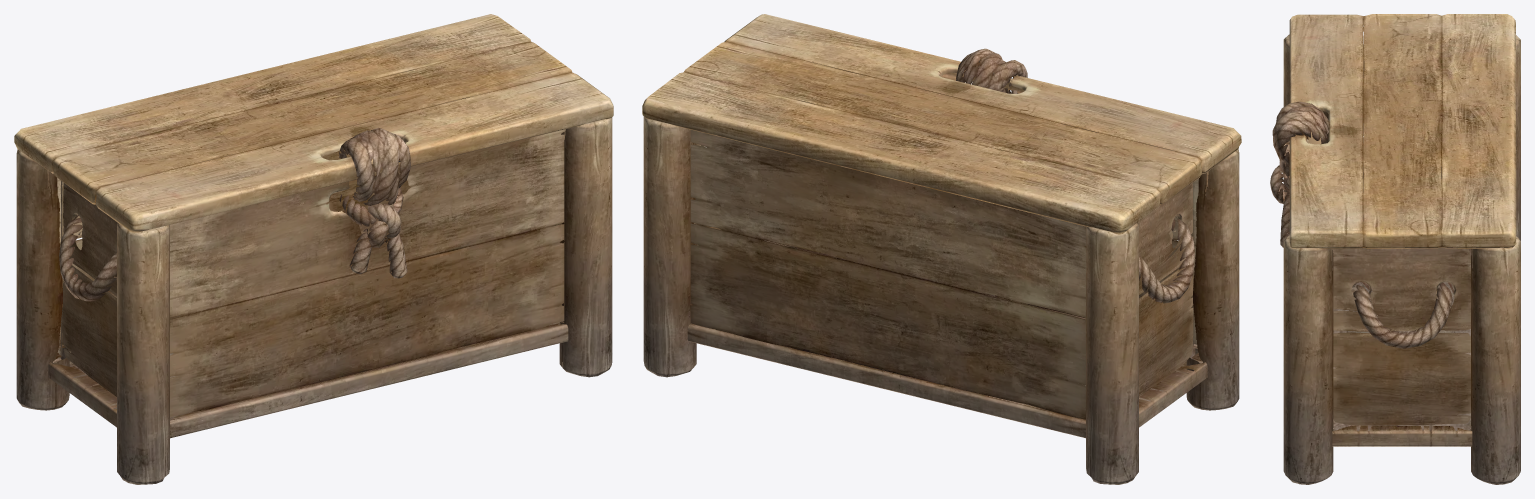
3 renders of one model, left to right at view 1: azimuth 30°, elevation 25°; view 2: azimuth 150°, elevation 25°; view 3: azimuth 270°, elevation 25°, orthographic. The views are drawn at different scales.
Visible parts, largest first — view 1: SM_Storage_Chest_01v1_LOD0; view 2: SM_Storage_Chest_01v1_LOD0; view 3: SM_Storage_Chest_01v1_LOD0.
Boxes of the visible parts, x1,y1,x2,y2 form: SM_Storage_Chest_01v1_LOD0: (14, 14, 613, 484); SM_Storage_Chest_01v1_LOD0: (642, 14, 1241, 484); SM_Storage_Chest_01v1_LOD0: (1270, 14, 1520, 484).
Bounding box in the file's own units: 1.31 × 0.741 × 0.6231.
Materials: 1 (1 with a texture image).
